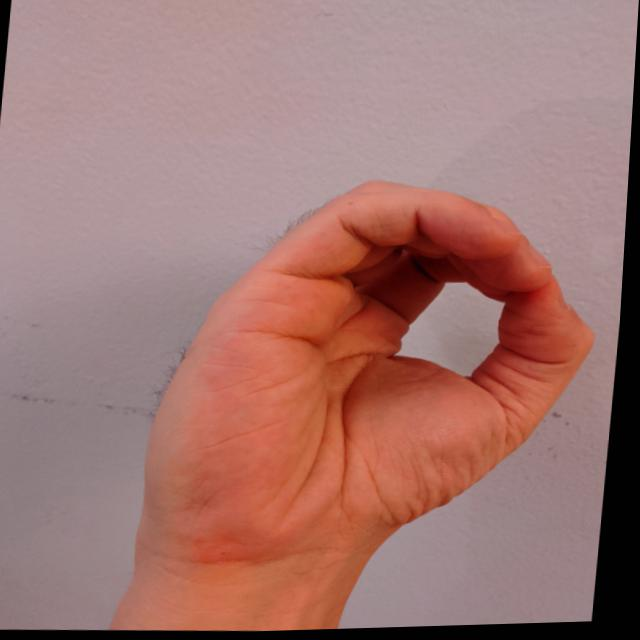O: (131, 160, 619, 584)
